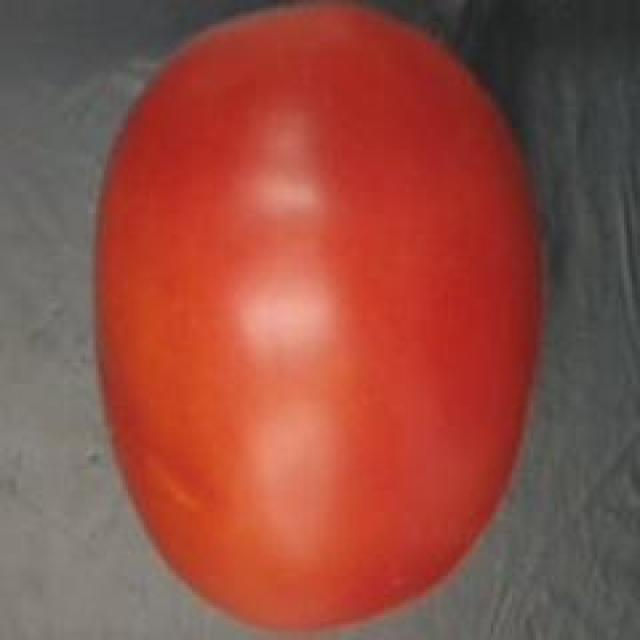ripe tomato: (80, 5, 571, 640)
